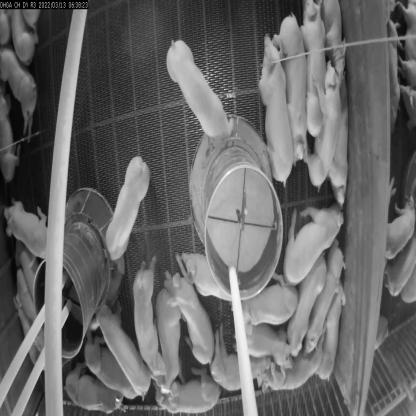Pig: (162, 44, 232, 146), (168, 262, 222, 376), (0, 189, 61, 283), (102, 148, 150, 266), (282, 193, 344, 281), (102, 296, 160, 386), (17, 260, 61, 377), (277, 14, 308, 176), (255, 38, 289, 182), (150, 274, 192, 384), (132, 258, 168, 383), (184, 229, 242, 303), (305, 235, 340, 357), (148, 362, 228, 415), (294, 0, 331, 109), (303, 63, 334, 192), (203, 333, 258, 403), (324, 287, 355, 404), (262, 348, 333, 399), (319, 85, 350, 192), (247, 267, 308, 321), (291, 249, 319, 358), (0, 62, 36, 141), (80, 348, 127, 399), (237, 322, 290, 362), (64, 379, 116, 416)
